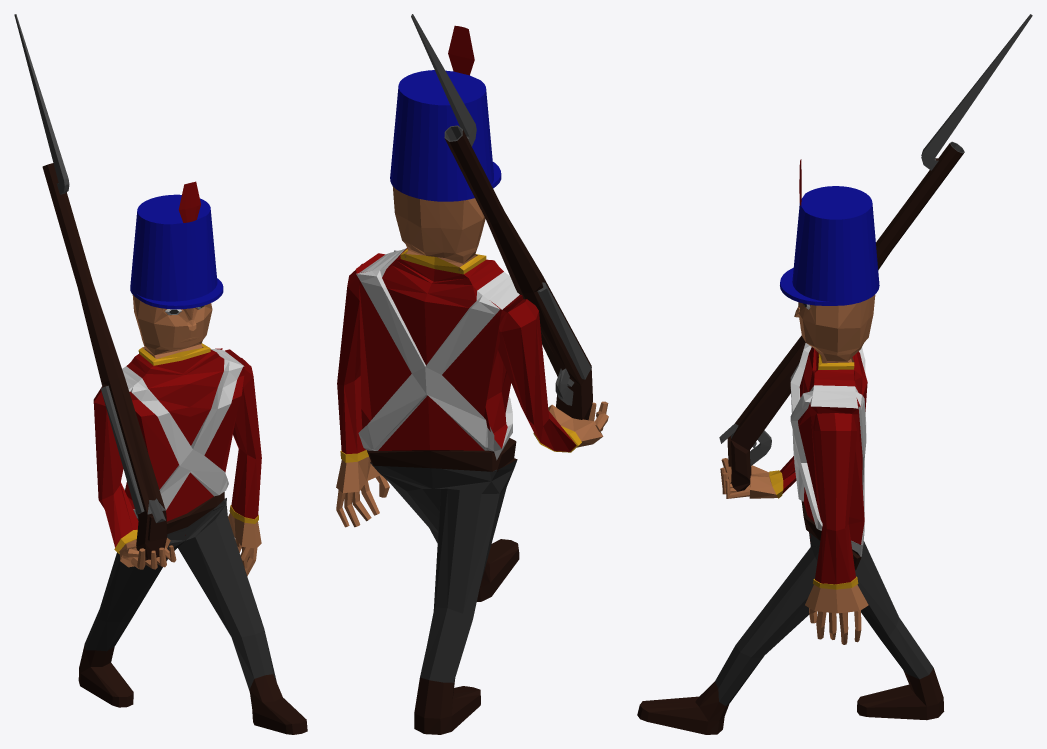
Rendered from Infantry_000111.obj.
The picture shows the model from 3 angles, left to right: view 1: azimuth 30°, elevation 25°; view 2: azimuth 150°, elevation 25°; view 3: azimuth 270°, elevation 25°; orthographic projection. The views are drawn at different scales.
Parts seen in each view (by area): view 1: {Man}_Circle, {Mesket}_Cube.001; view 2: {Man}_Circle, {Mesket}_Cube.001; view 3: {Man}_Circle, {Mesket}_Cube.001.
Boxes of the visible parts, bbox=[...] form: {Man}_Circle: bbox=[78, 181, 307, 734]; {Mesket}_Cube.001: bbox=[14, 14, 167, 560]; {Man}_Circle: bbox=[336, 25, 608, 734]; {Mesket}_Cube.001: bbox=[411, 14, 592, 420]; {Man}_Circle: bbox=[637, 159, 944, 734]; {Mesket}_Cube.001: bbox=[719, 14, 1032, 491].
Bounding box in the file's own units: 5.63 × 19.06 × 10.01.
